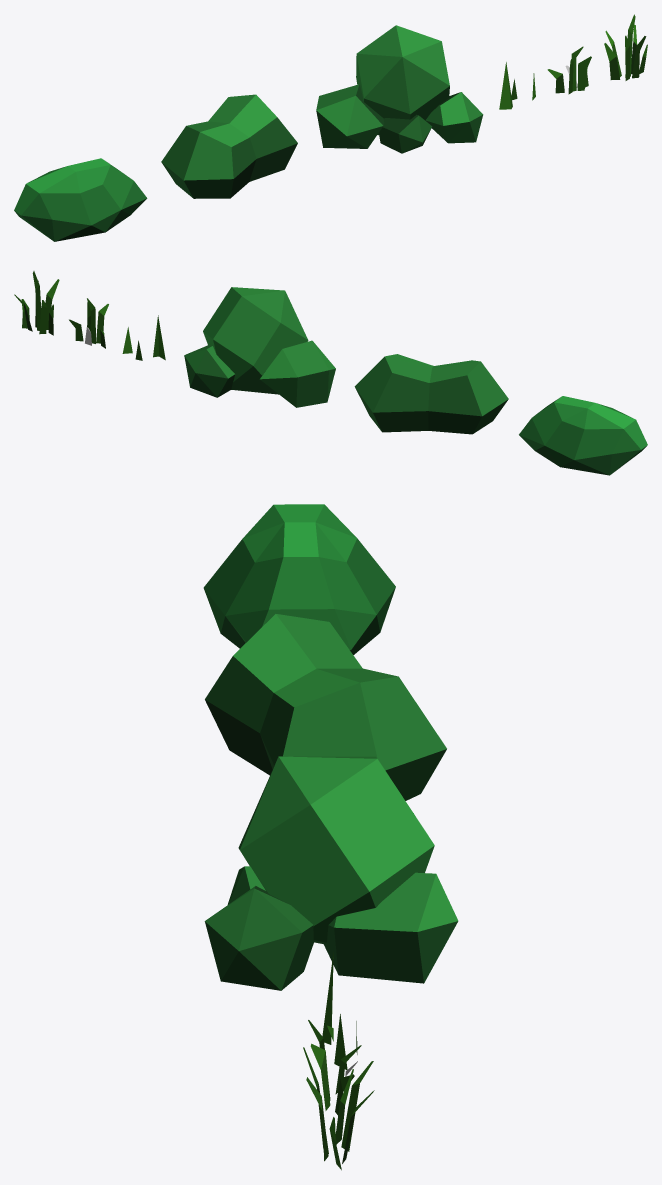
Rendered from Bushes_Set1_Separeted.fbx.
3 renders of one model, top to bottom at view 1: azimuth 30°, elevation 25°; view 2: azimuth 150°, elevation 25°; view 3: azimuth 270°, elevation 25°, orthographic. The views are drawn at different scales.
Visible parts, largest first — view 1: Box050.003, Box050.001, Box050.002, Box050.006, Box050.005, Box050.004; view 2: Box050.003, Box050.001, Box050.002, Box050.006, Box050.005, Box050.004; view 3: Box050.003, Box050.001, Box050.002, Box050.006, Box050.005.
Boxes of the visible parts, x1=… form: Box050.003: x1=316, y1=25, x2=483, y2=153; Box050.001: x1=161, y1=94, x2=297, y2=198; Box050.002: x1=14, y1=158, x2=147, y2=241; Box050.006: x1=604, y1=14, x2=647, y2=80; Box050.005: x1=547, y1=46, x2=591, y2=94; Box050.004: x1=499, y1=62, x2=535, y2=109; Box050.003: x1=184, y1=287, x2=335, y2=407; Box050.001: x1=354, y1=354, x2=508, y2=434; Box050.002: x1=519, y1=396, x2=647, y2=475; Box050.006: x1=14, y1=271, x2=59, y2=335; Box050.005: x1=69, y1=298, x2=108, y2=348; Box050.004: x1=122, y1=315, x2=165, y2=360; Box050.003: x1=204, y1=756, x2=458, y2=990; Box050.001: x1=205, y1=614, x2=446, y2=800; Box050.002: x1=203, y1=504, x2=395, y2=654; Box050.006: x1=303, y1=1047, x2=374, y2=1170; Box050.005: x1=308, y1=1020, x2=361, y2=1115.
Bounding box in the file's own units: 361 × 52.98 × 64.85.
